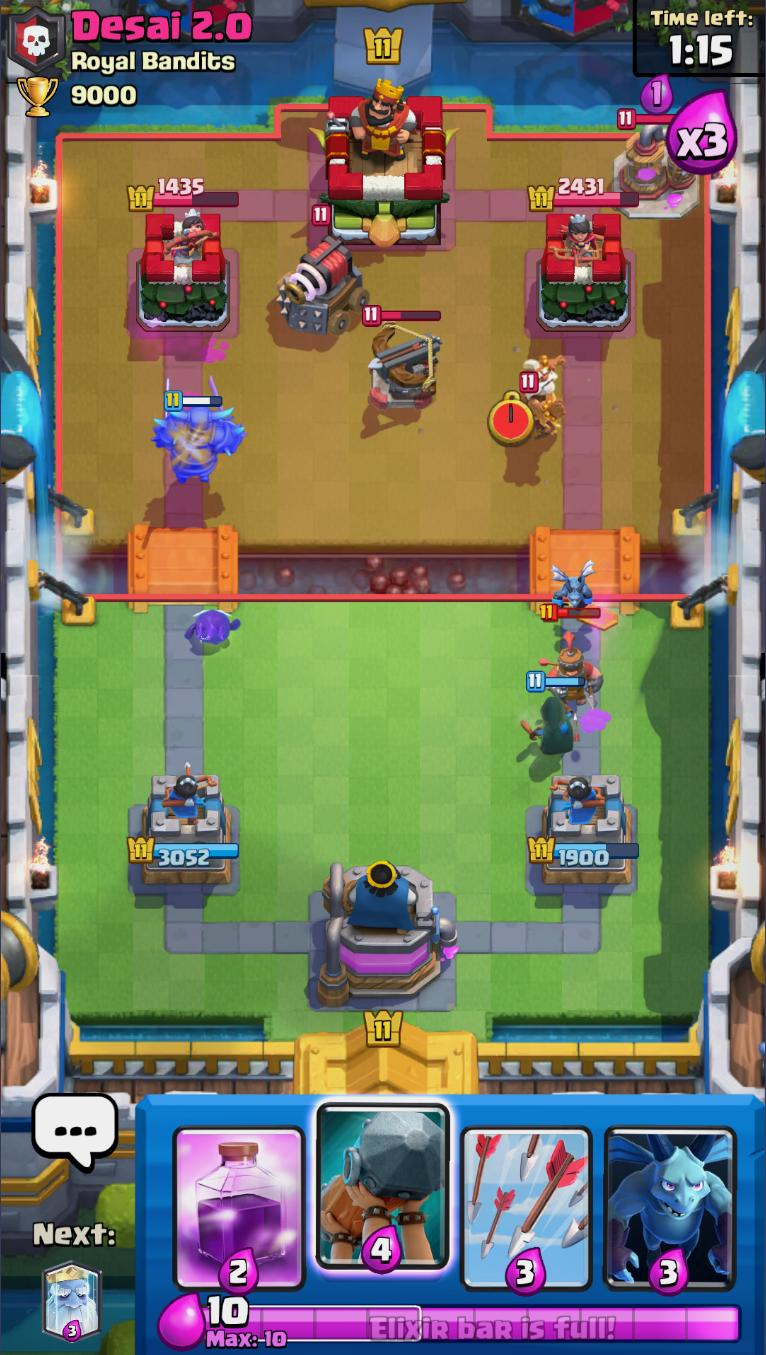ArrowDeck: (456, 1094, 598, 1295)
BattleRamDeck: (311, 1095, 455, 1296)
Elixir: (203, 1295, 744, 1350)
ElixirCollector: (612, 109, 702, 221)
EnemyTower: (533, 208, 631, 331), (133, 210, 229, 335)
KingTower: (308, 82, 456, 248)
MinionsDeck: (599, 1094, 744, 1296)
Monk: (514, 354, 568, 442)
MyBandit: (521, 671, 584, 756)
MyElectroSpirit: (185, 604, 241, 650)
MyKingTower: (319, 856, 458, 1009)
MyMinion: (545, 559, 600, 613)
MyPekka: (151, 378, 245, 485)
MyPrincessTower: (524, 771, 639, 887), (125, 769, 238, 887)
MyPrincessTowerHP: (125, 836, 238, 868), (525, 835, 637, 867)
PrincessTower: (546, 213, 603, 264), (144, 214, 200, 264)
RageDeck: (167, 1095, 310, 1296)
RoyalRecruit: (537, 603, 604, 705)
RoyaleGhostNext: (40, 1264, 105, 1344)
Sparky: (273, 204, 371, 339)
TowerPrincessHP: (126, 178, 239, 213), (526, 178, 639, 212)
XBow: (357, 304, 451, 417)
